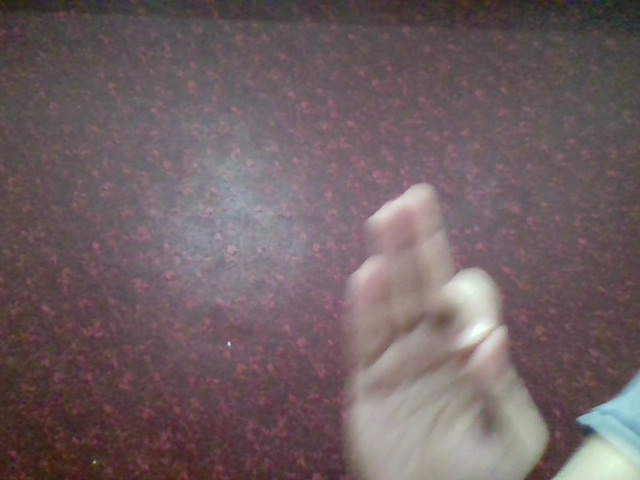f: (323, 172, 556, 479)
